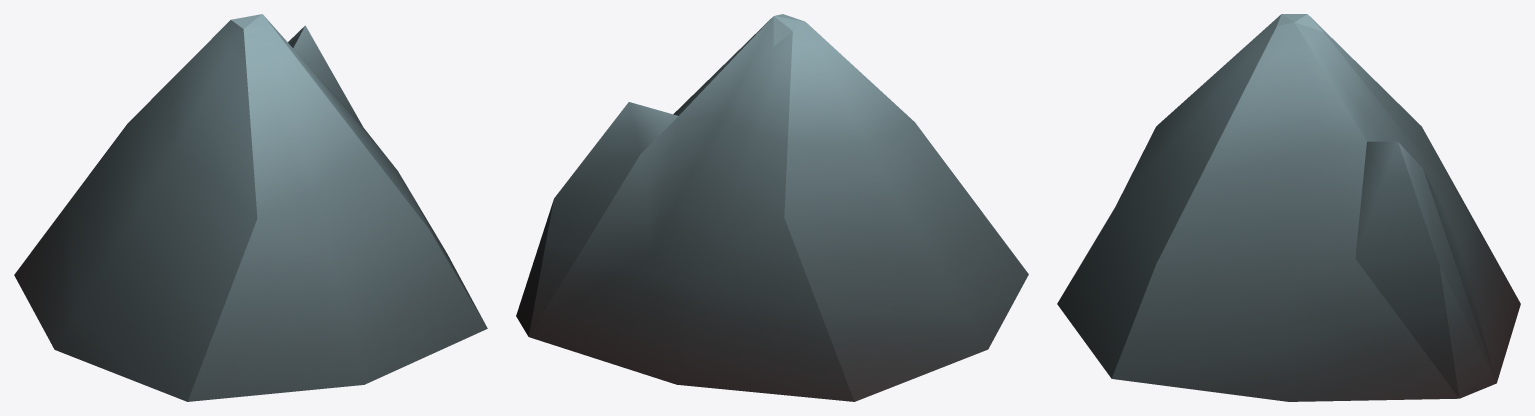
File: SM_Env_Mountain_02.fbx
The picture shows the model from 3 angles, left to right: view 1: azimuth 30°, elevation 25°; view 2: azimuth 150°, elevation 25°; view 3: azimuth 270°, elevation 25°; orthographic projection. The views are drawn at different scales.
Visible parts, largest first — view 1: SM_Env_Mountain_02; view 2: SM_Env_Mountain_02; view 3: SM_Env_Mountain_02.
Boxes of the visible parts, x1=… form: SM_Env_Mountain_02: x1=14, y1=14, x2=487, y2=401; SM_Env_Mountain_02: x1=516, y1=14, x2=1028, y2=401; SM_Env_Mountain_02: x1=1057, y1=14, x2=1520, y2=401.
Size of the model in its own units: 5395 by 3706 by 5395.
